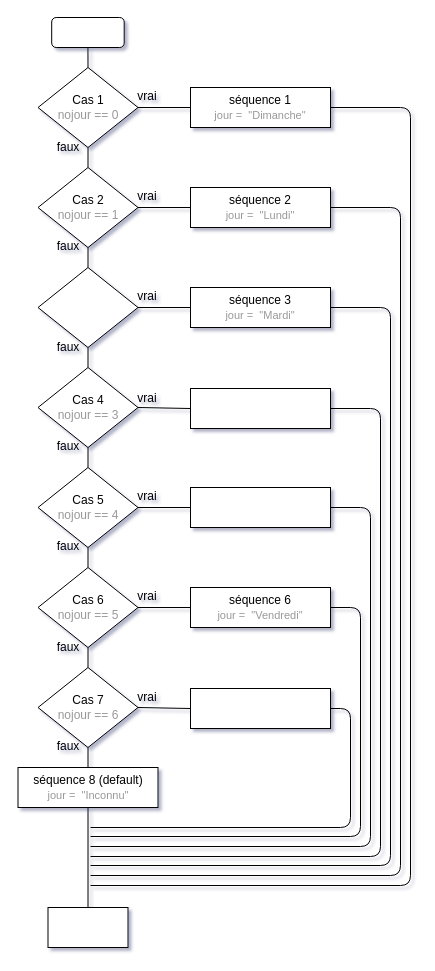
Image size: 435x971. Some labels were removed from this diagram. The box of each missing label's shape, as (x1, y1, x2, y2) in pixels:
AFFICHER jour: (47, 906, 128, 948)
Cas 3 nojour == 2: (37, 266, 138, 348)
Début: (51, 16, 124, 48)
séquence 4 jour = "Mercredi": (190, 388, 330, 428)
séquence 5 jour = "Jeudi": (190, 486, 330, 528)
séquence 7 jour = "Samedi": (190, 688, 330, 728)
